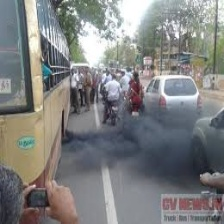smoke: (67, 127, 192, 166)
